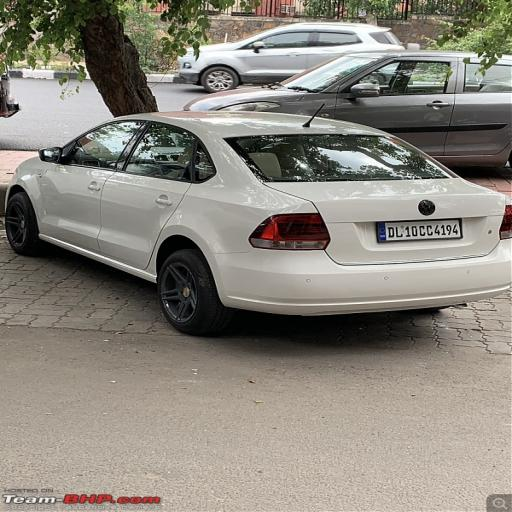License: (372, 220, 476, 244)
